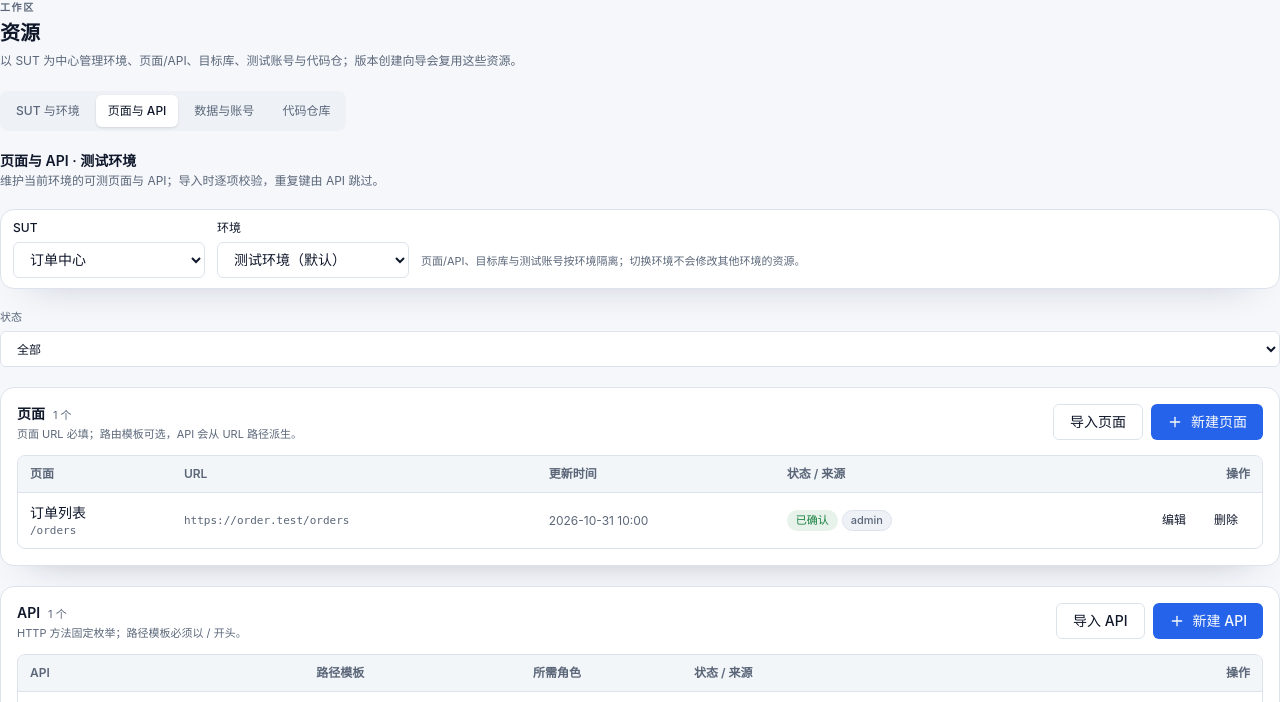
ResourcesPage › opens the tab from ?tab= and keeps the URL in sync when switching
The image size is (1280, 702).
Check: the table named "页面列表" is shown, box [18, 456, 1262, 548]
What coordinates should you click on to do the following:
click the tab "代码仓库"
I would click on:
 (306, 110)
Its box is [270, 94, 342, 126].
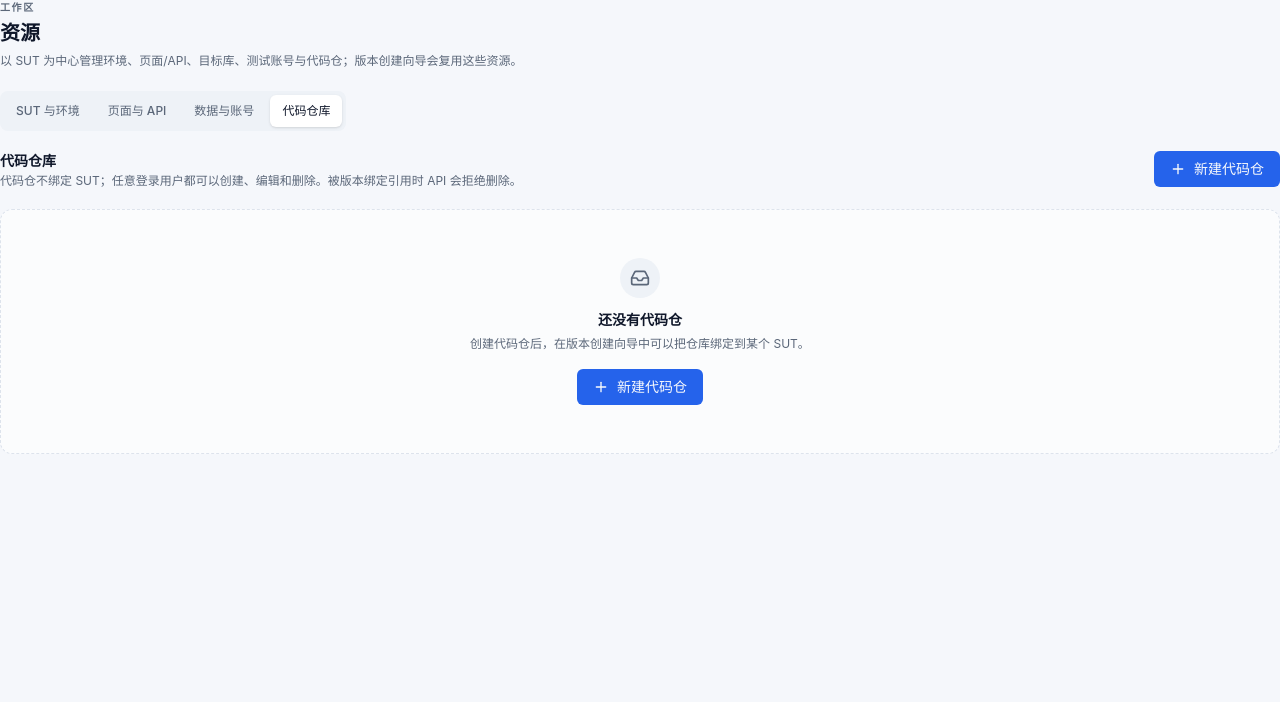
Check: the 1st button "新建代码仓" is shown, box [1154, 150, 1279, 186]
